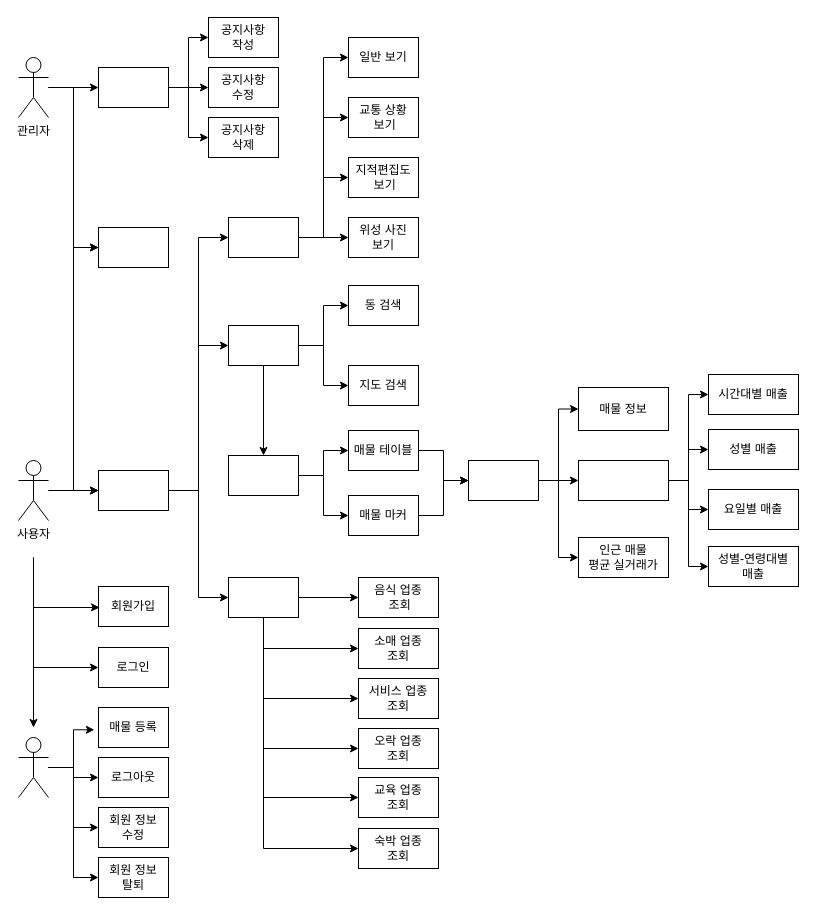
Image size: 816x915. Some labels were removed from this diagram. Here are the shapes that lost their labels. From the top down, the centre of each, then its label:
At pixel 133 87: "공지사항 관리".
At pixel 133 247: "공지사항".
At pixel 263 237: "지도 타입 변경".
At pixel 263 345: "매물 검색".
At pixel 133 490: "지도".
At pixel 263 475: "매물 목록".
At pixel 503 480: "매물 조회".
At pixel 623 480: "인근 상권 매출".
At pixel 263 597: "지도 내 상가 조회".
At pixel 33 767: "회원".
